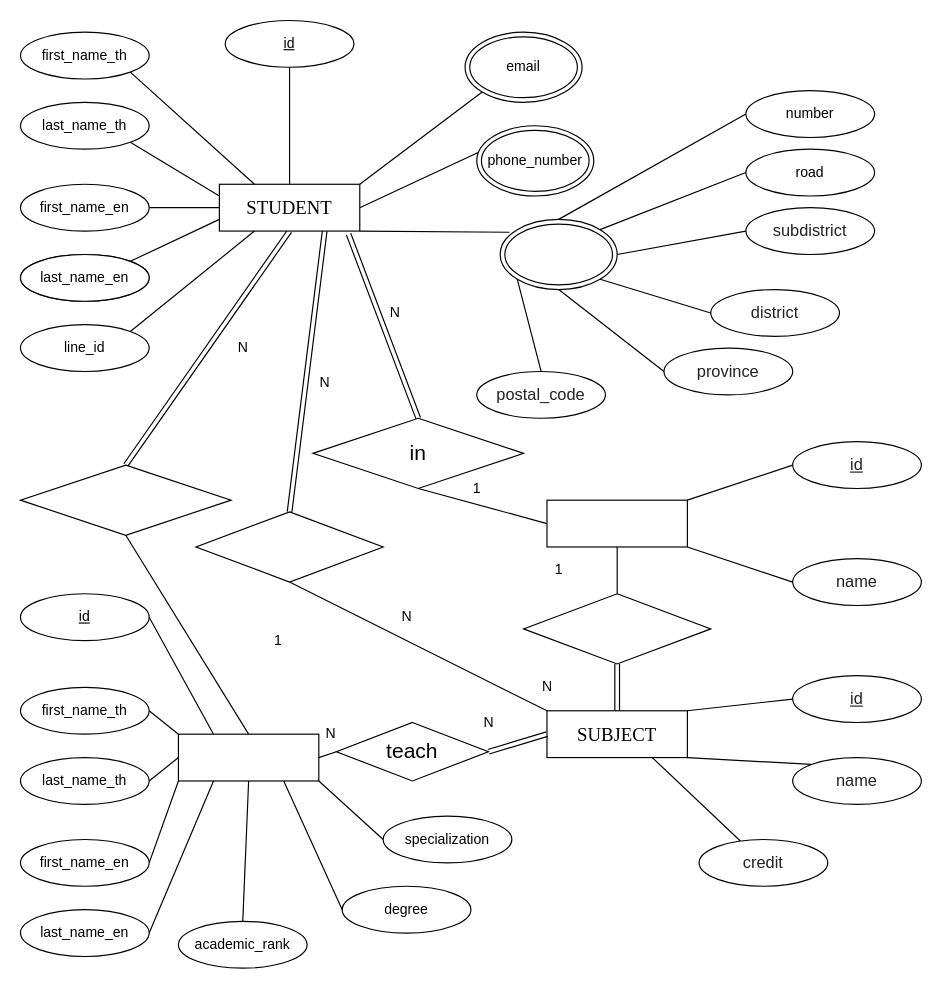
This 942x989 diagram has some shape labels left out. Here are the shapes that lost their labels. From the top down, the centre of each, then its label:
At (558,254): "Address".
At (125,499): "consult".
At (616,523): "FACULTY".
At (289,546): "enroll".
At (616,628): "open".
At (248,757): "INSTRUCTOR".
